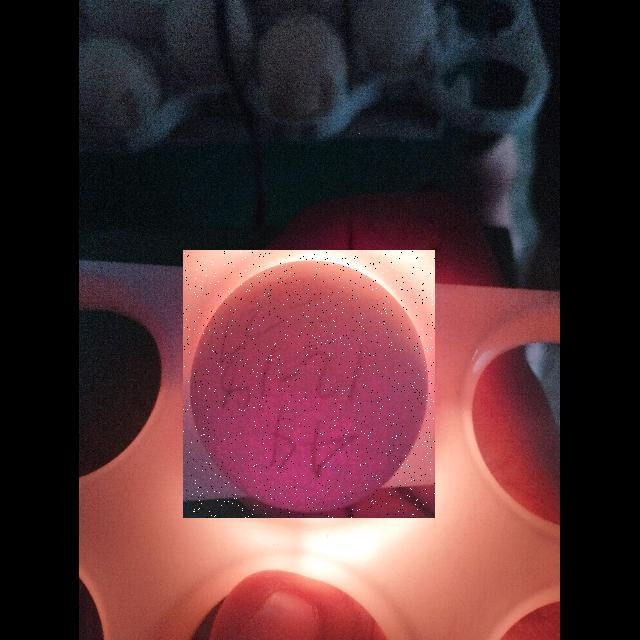Infertile: (183, 250, 435, 518)
